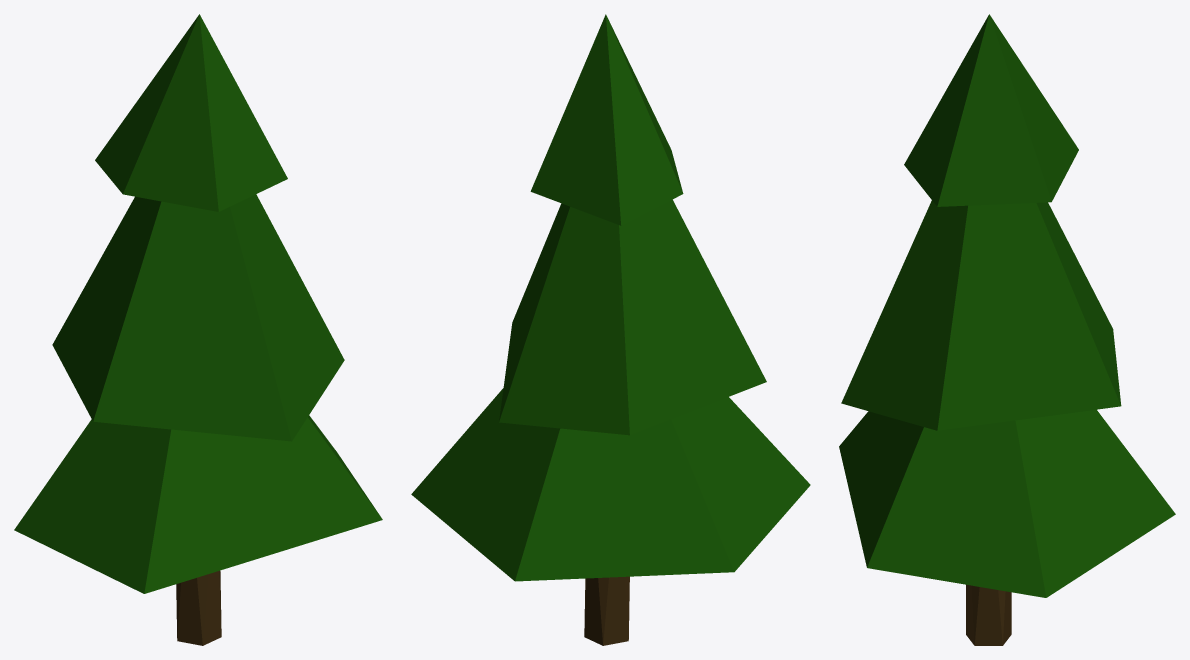
The model's file is low_poly_tree_fir.glb.
The picture shows the model from 3 angles, left to right: view 1: azimuth 30°, elevation 25°; view 2: azimuth 150°, elevation 25°; view 3: azimuth 270°, elevation 25°; orthographic projection.
Parts seen in each view (by area): view 1: tree_foliage, tree_trunk; view 2: tree_foliage, tree_trunk; view 3: tree_foliage, tree_trunk.
Boxes of the visible parts, x1,y1,x2,y2 form: tree_foliage: (14, 14, 382, 593); tree_trunk: (176, 570, 221, 645); tree_foliage: (411, 14, 810, 581); tree_trunk: (584, 576, 629, 645); tree_foliage: (839, 14, 1175, 597); tree_trunk: (966, 584, 1011, 645).
Bounding box in the file's own units: 4.19 × 7.7 × 3.77.
